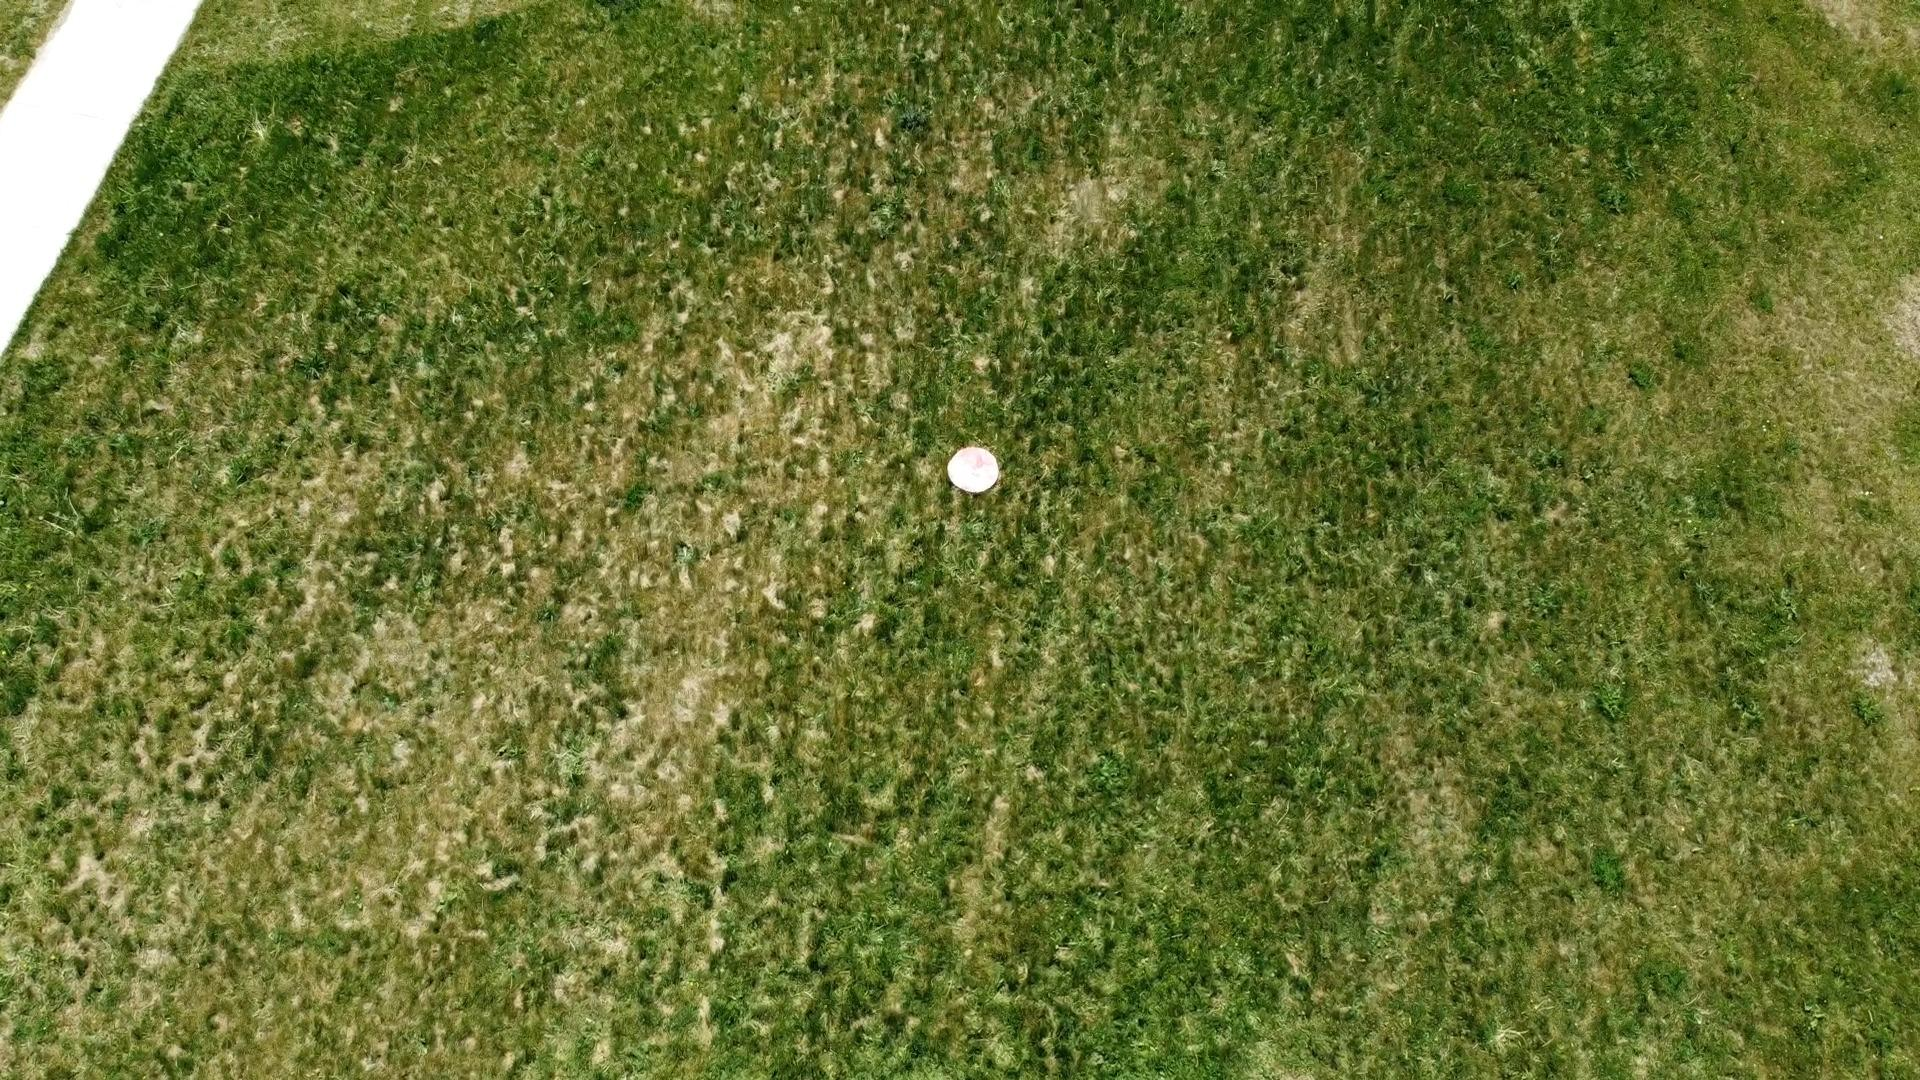Red: (944, 443, 1004, 496)
